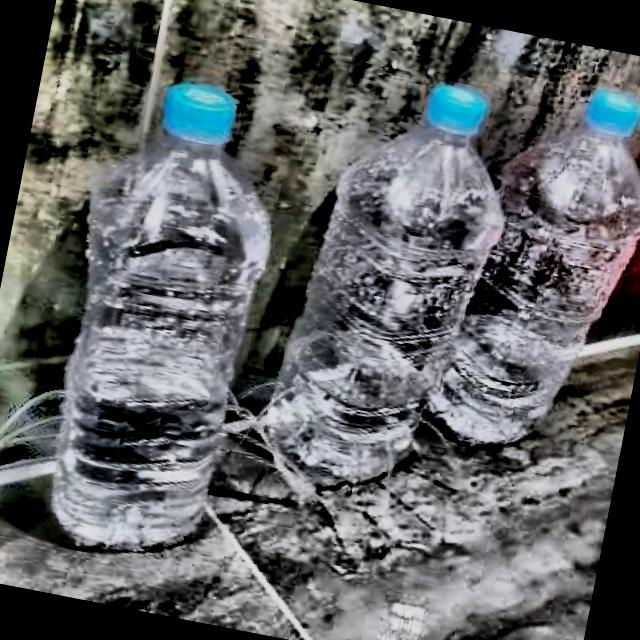plastic bottle: (50, 87, 271, 553), (261, 89, 504, 488), (429, 90, 640, 444)
